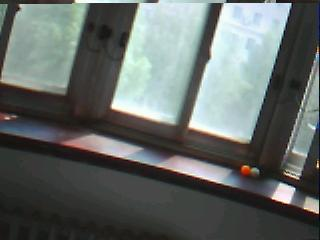oball: (240, 165, 250, 176)
